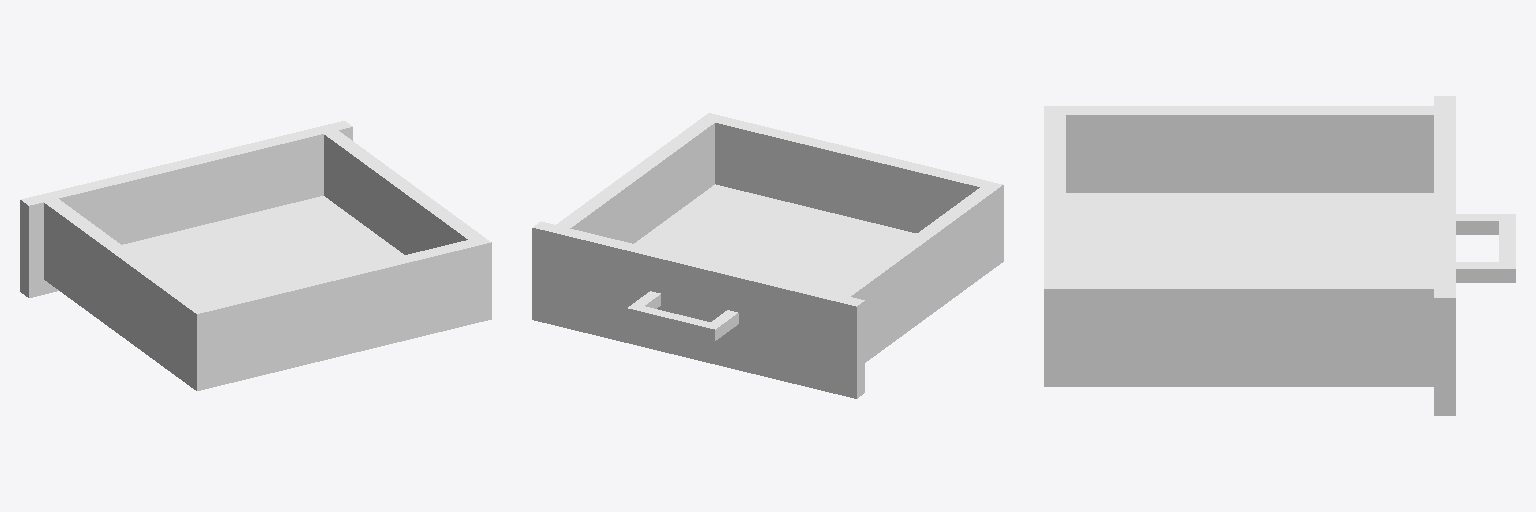
robot.urdf — drawer:
<?xml version="1.0" ?>
<robot name="drawer">
 <link name="baseLink">
   <contact>
     <lateral_friction value="0.5"/>
   </contact>
   <inertial>
     <origin rpy="0 0 0" xyz="0.399998 0.224967 0.532091"/>
      <mass value="0.0"/>
      <inertia ixx="0.000124" ixy="0.000000" ixz="0.000000" iyy="0.000127" iyz="0.000001" izz="0.000238"/>
   </inertial>
   <visual>
     <origin rpy="0 0 0" xyz="0 0 0"/>
     <geometry>
       <mesh filename="drawer.obj" scale="1.0 1.0 1.0"/>
     </geometry>
      <material name="white">
       <color rgba="1 1 1 1"/>
     </material>
   </visual>
   <collision>
     <origin rpy="0 0 0" xyz="0 0 0"/>
     <geometry>
       <mesh filename="drawer_vhacd2.obj" scale="1.0 1.0 1.0"/>
     </geometry>
   </collision>
 </link>
</robot>

--- What the picture shows (computed from the rendered views, not written in the file) ---
The picture shows the robot from 3 angles, left to right: view 1: azimuth 30°, elevation 25°; view 2: azimuth 150°, elevation 25°; view 3: azimuth 270°, elevation 25°; orthographic projection.
Model drawer with 1 links and 0 joints (none), rooted at baseLink, posed every joint at zero.
Visible links, largest first — view 1: baseLink; view 2: baseLink; view 3: baseLink.
Link boxes in pixels (<box>): baseLink: <box>20,121,491,390</box>; baseLink: <box>532,113,1003,398</box>; baseLink: <box>1044,96,1515,415</box>.
Bounding box of the posed robot: 0.44 × 0.435 × 0.12 m (x, y, z).
Meshes: 1 distinct files referenced, 1 mesh visuals loaded (1 OBJ).